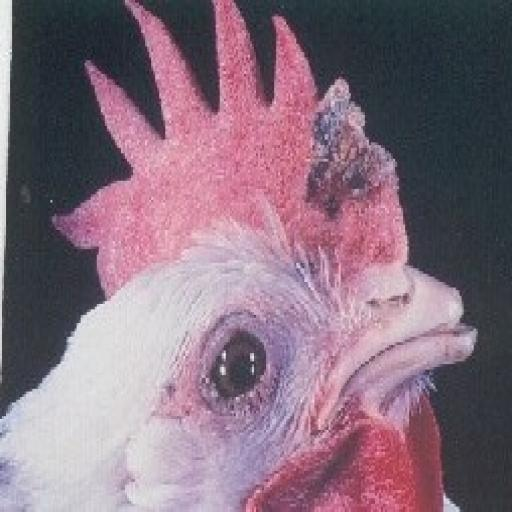disease: (295, 51, 400, 239), (180, 315, 310, 438)
